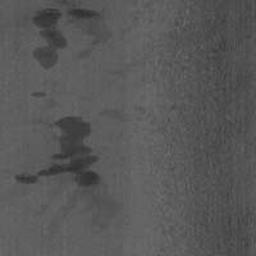Oil spot: (14, 115, 124, 237), (31, 0, 113, 70), (31, 82, 58, 108), (100, 109, 122, 119)
